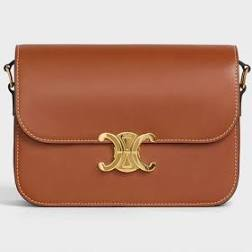Gucci: (9, 44, 245, 213), (95, 118, 179, 179)
